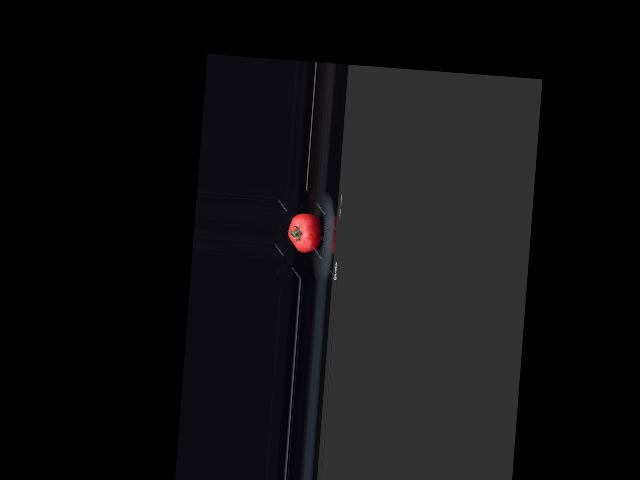tomato: (286, 211, 323, 253)
